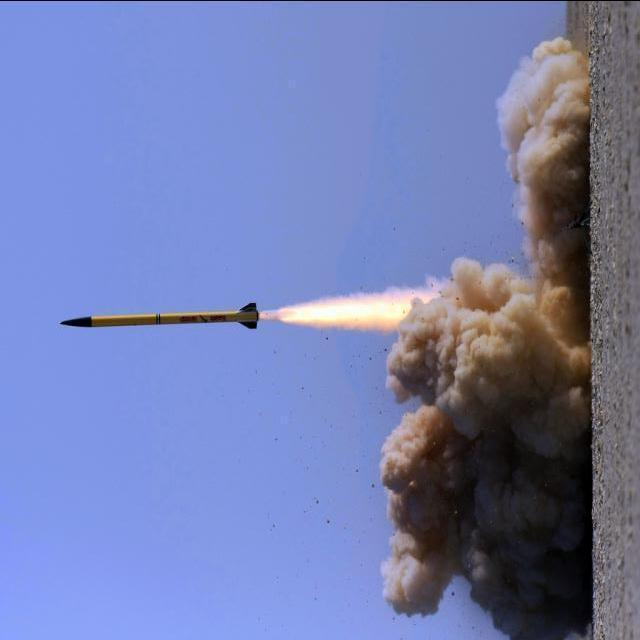missile: (59, 303, 260, 339)
